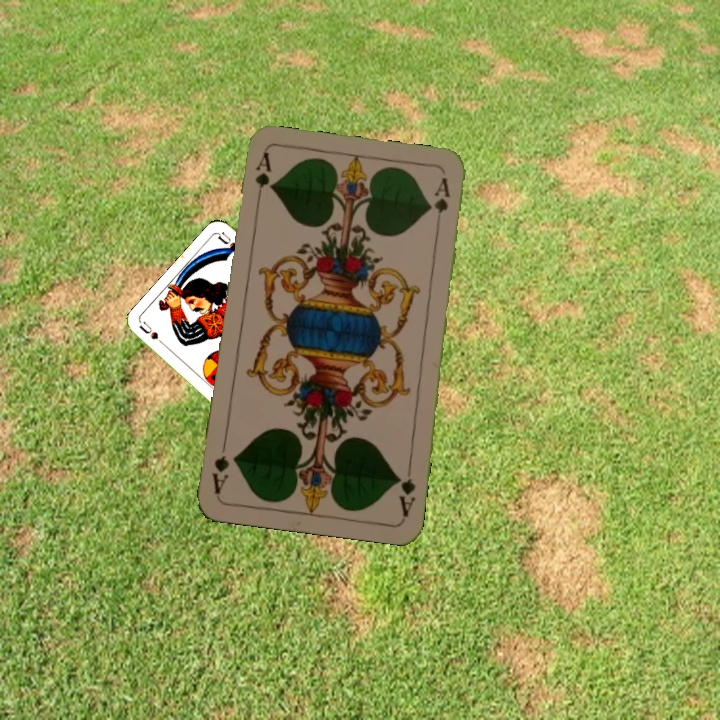GA: (393, 460, 418, 520), (251, 149, 274, 208)
SU: (136, 318, 171, 351)
